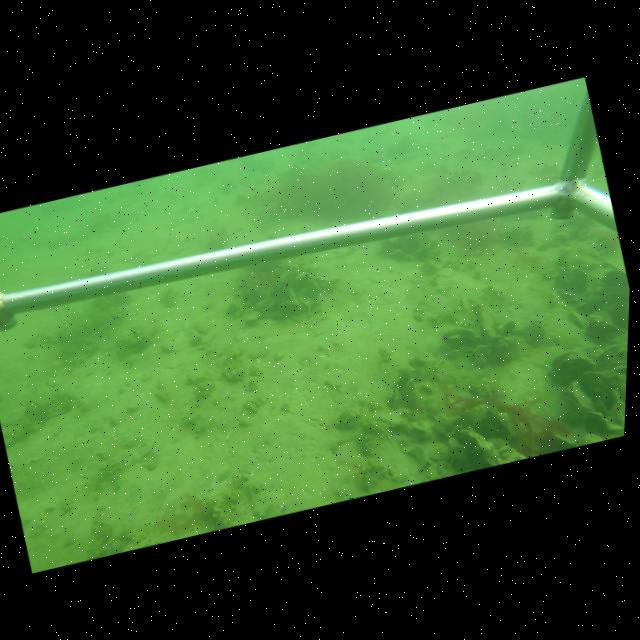Oyster-Closed: (457, 401, 517, 441), (575, 369, 626, 407), (553, 353, 596, 384), (581, 410, 611, 432)
Oyster-Indeterminate: (278, 300, 303, 316), (287, 287, 304, 307)
Oyster-Open: (385, 385, 401, 408)
